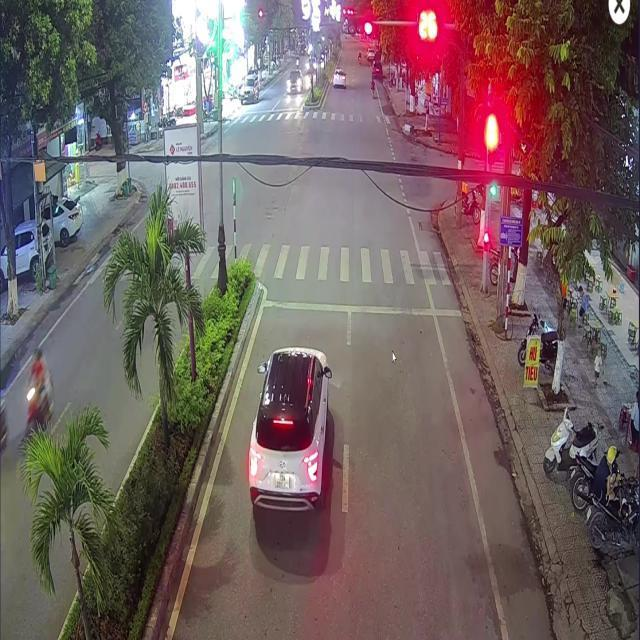car: (247, 347, 330, 509), (332, 68, 345, 86), (371, 59, 381, 76)
red_light: (347, 18, 372, 35), (486, 128, 494, 165), (483, 231, 487, 251)
stop_line: (263, 299, 461, 316)
